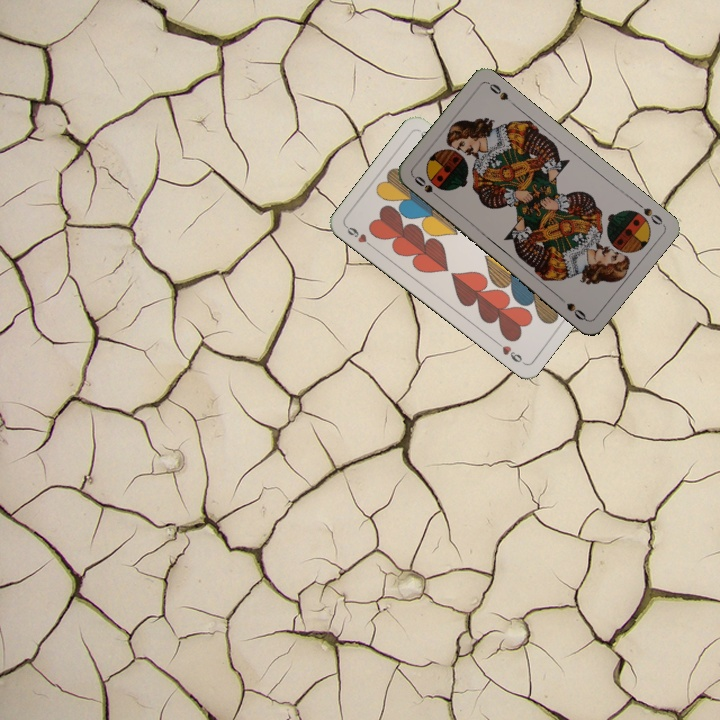H9: (342, 222, 377, 251)
SO: (410, 172, 444, 202), (632, 198, 665, 228)
